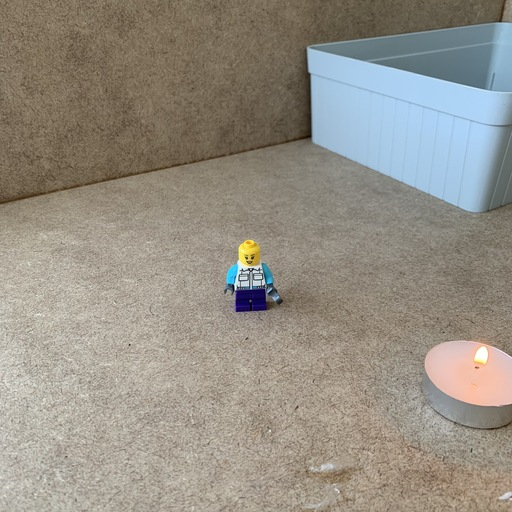fire: (471, 344, 490, 372)
human: (222, 240, 275, 314)
